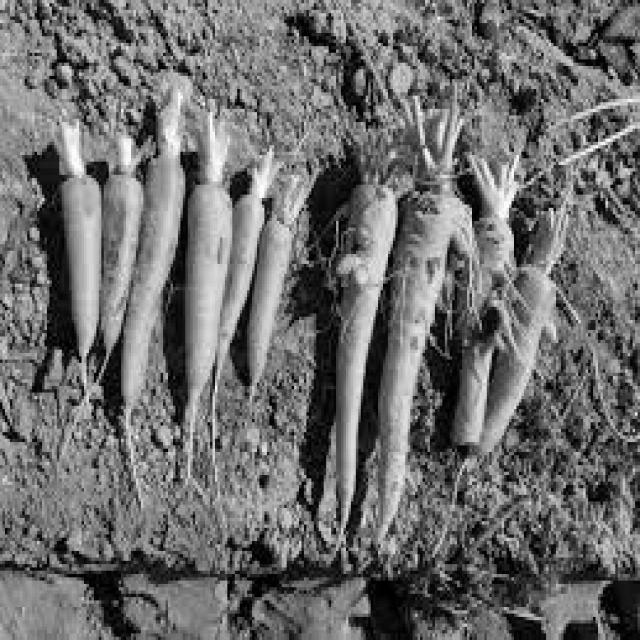Stale_Carrot: (338, 177, 380, 478), (397, 183, 477, 326), (95, 155, 144, 369), (471, 248, 534, 382)
